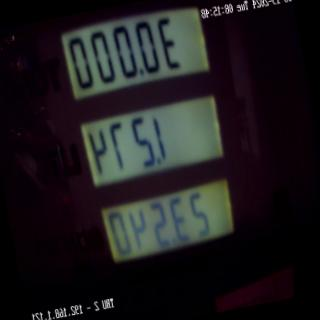screen: (44, 0, 260, 296)
